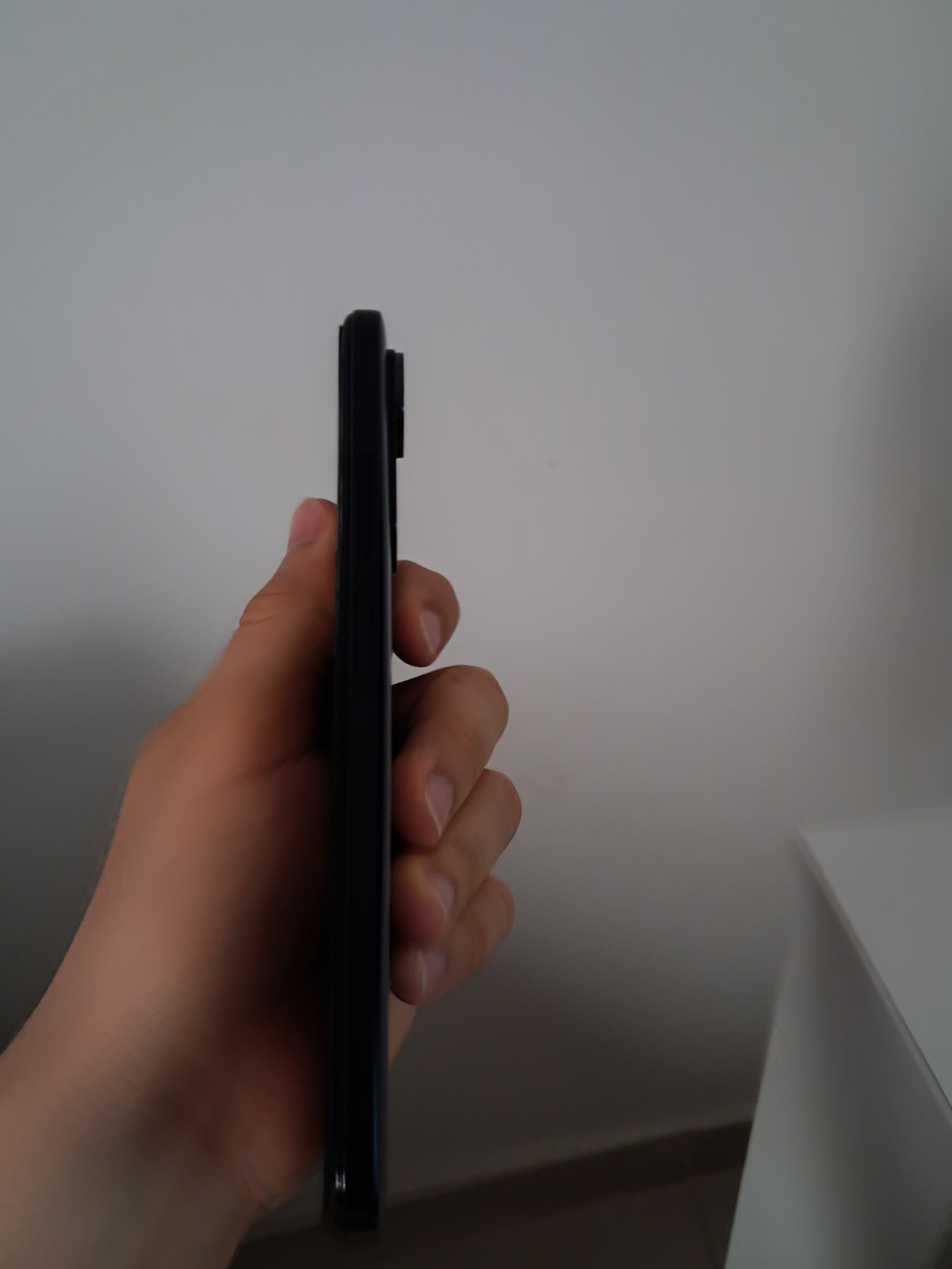phone: (324, 310, 403, 1232)
